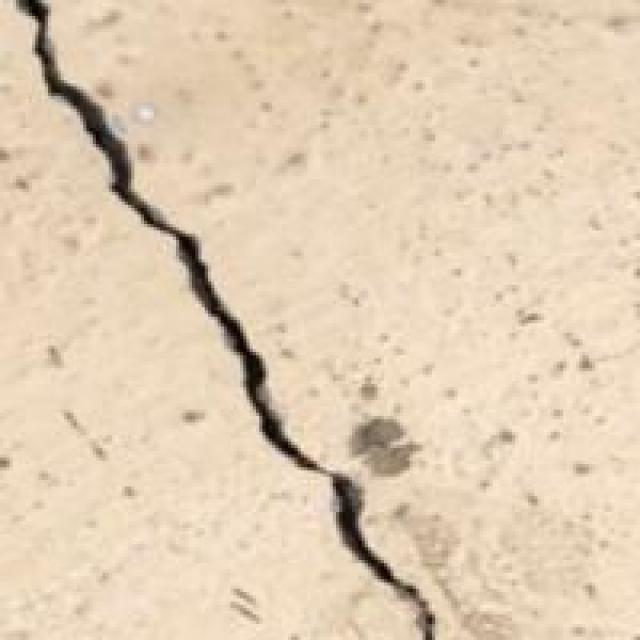crack: (3, 0, 429, 637)
